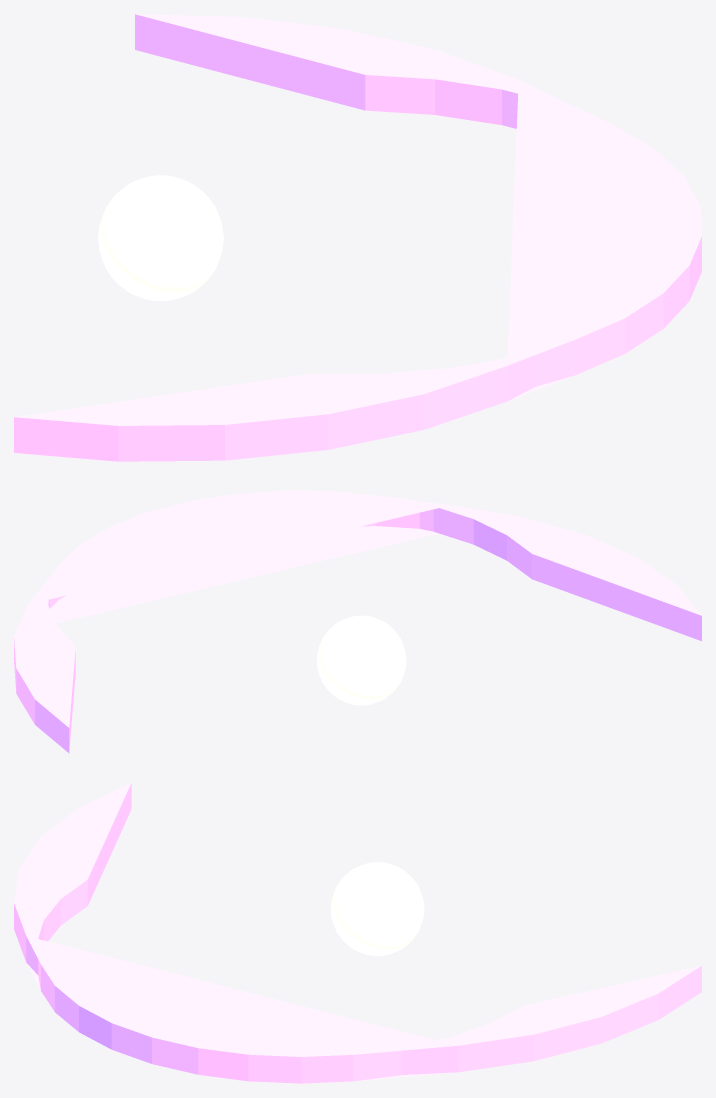
Rendered from scythe_blade.glb.
3 views of the same model, one above another, from view 1: azimuth 30°, elevation 25°; view 2: azimuth 150°, elevation 25°; view 3: azimuth 270°, elevation 25° (orthographic). The views are drawn at different scales.
Parts seen in each view (by area): view 1: Body; view 2: Body; view 3: Body.
Part boxes in pixels (x1,y1,x2,y2): Body: (14, 14, 701, 461); Body: (14, 490, 701, 753); Body: (14, 782, 701, 1083).
Bounding box in the file's own units: 1.11 × 0.16 × 1.17.
